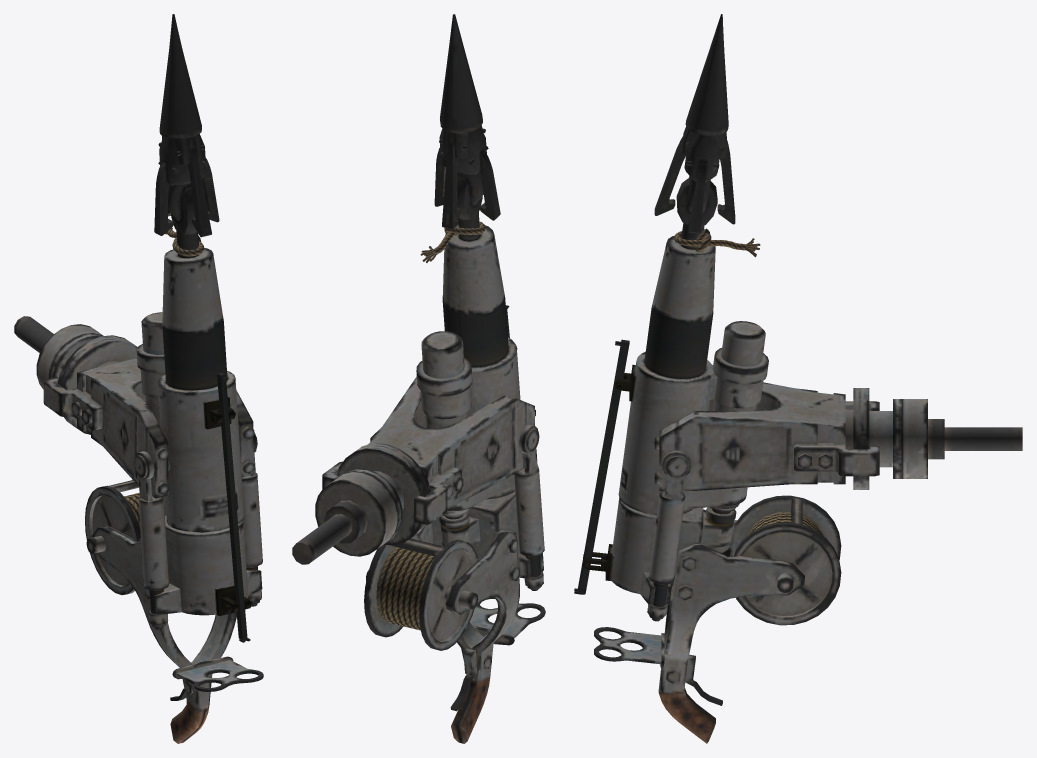
Rendered from Harpoon.fbx.
3 views of the same model, side by side, from view 1: azimuth 30°, elevation 25°; view 2: azimuth 150°, elevation 25°; view 3: azimuth 270°, elevation 25° (orthographic).
Parts seen in each view (by area): view 1: set_0_group_0; view 2: set_0_group_0; view 3: set_0_group_0.
Part boxes in pixels (bbox=[...]): set_0_group_0: bbox=[14, 14, 263, 743]; set_0_group_0: bbox=[292, 14, 545, 743]; set_0_group_0: bbox=[574, 14, 1022, 743].
Bounding box in the file's own units: 34.27 × 206 × 115.
Materials: 1 (1 with a texture image).
